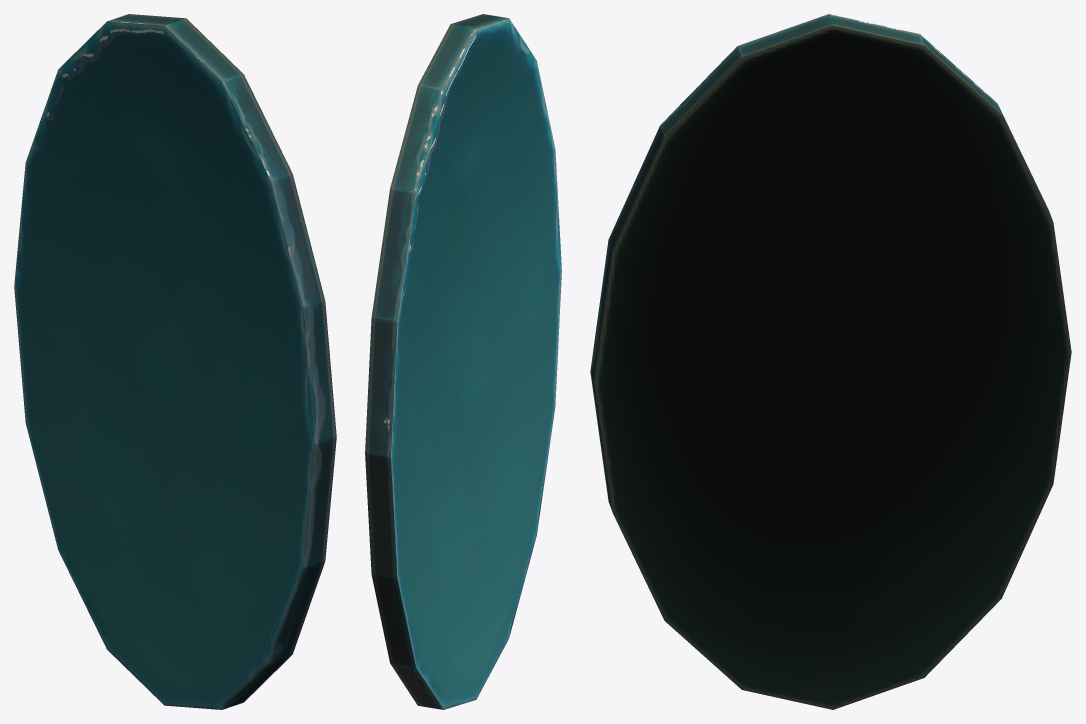
Rendered from bathroom_mirror_V02.glb.
3 renders of one model, left to right at view 1: azimuth 30°, elevation 25°; view 2: azimuth 150°, elevation 25°; view 3: azimuth 270°, elevation 25°, orthographic.
Visible parts, largest first — view 1: SpiegelLP; view 2: SpiegelLP; view 3: SpiegelLP.
Part boxes in pixels (left/top/right/bottom): SpiegelLP: left=14, top=14, right=336, bottom=709; SpiegelLP: left=365, top=14, right=561, bottom=709; SpiegelLP: left=590, top=14, right=1071, bottom=709.
Size of the model in its own units: 0.0767 by 0.5677 by 0.3619.
1 material, 1 textured.
